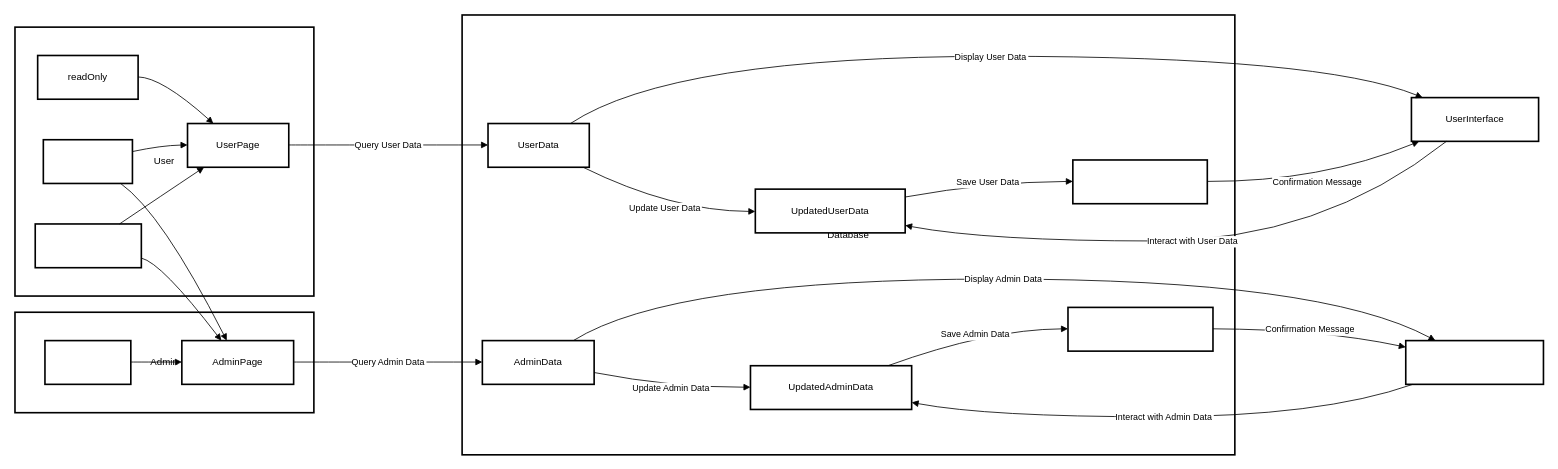
This 1558x469 diagram has some shape labels left out. Each missing label, with the centre of its shape:
"AdminInterface" goes at point 1474,362.
"AdminSavedData" goes at point 1140,329.
"delete" goes at point 87,362.
"readWrite" goes at point 88,245.
"update" goes at point 87,161.
"UserSavedData" goes at point 1140,181.
